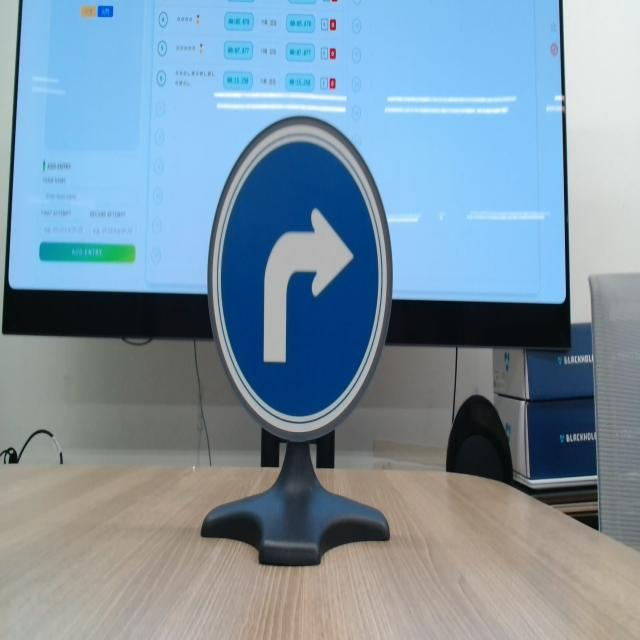right_dierection: (203, 107, 397, 449)
